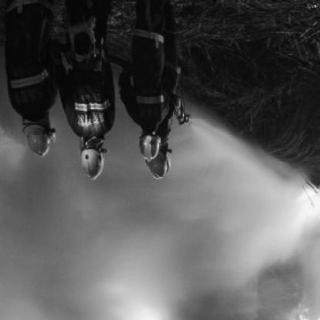Smoke: (2, 171, 320, 319)
other: (76, 149, 108, 182)
